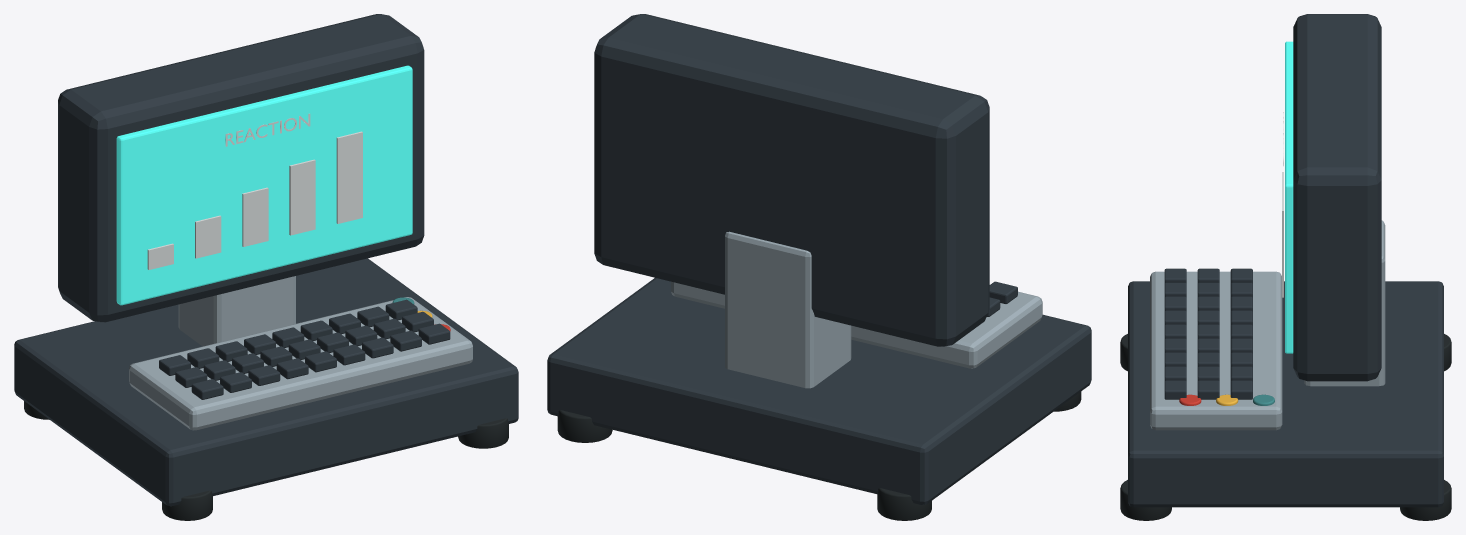
File: equation.glb
3 views of the same model, side by side, from view 1: azimuth 30°, elevation 25°; view 2: azimuth 150°, elevation 25°; view 3: azimuth 270°, elevation 25° (orthographic). The views are drawn at different scales.
Parts seen in each view (by area): view 1: Console base, Screen, Monitor bezel, Keyboard, Monitor stand, Display bar.004, Display bar.003, Display bar.002, Rubber foot, Rubber foot.002, Display bar.001, Display bar; view 2: Monitor bezel, Console base, Monitor stand, Keyboard, Rubber foot.001, Rubber foot.003; view 3: Console base, Monitor bezel, Keyboard, Screen, Monitor stand, Rubber foot.002, Rubber foot.003, Key.017, Key.008, Key.026.
Part boxes in pixels (<box>): Console base: <box>14,258,518,506</box>; Screen: <box>116,65,412,305</box>; Monitor bezel: <box>58,14,424,322</box>; Keyboard: <box>129,297,472,430</box>; Monitor stand: <box>178,276,295,346</box>; Display bar.004: <box>336,131,362,223</box>; Display bar.003: <box>289,159,315,235</box>; Display bar.002: <box>242,187,268,246</box>; Rubber foot: <box>162,490,212,520</box>; Rubber foot.002: <box>458,418,508,448</box>; Display bar.001: <box>195,215,221,258</box>; Display bar: <box>147,243,173,269</box>; Monitor bezel: <box>594,14,989,346</box>; Console base: <box>547,278,1091,504</box>; Monitor stand: <box>725,231,851,388</box>; Keyboard: <box>671,281,1042,368</box>; Rubber foot.001: <box>877,488,931,520</box>; Rubber foot.003: <box>557,410,612,442</box>; Console base: <box>1128,281,1443,507</box>; Monitor bezel: <box>1293,14,1381,381</box>; Keyboard: <box>1150,271,1282,430</box>; Screen: <box>1285,41,1293,353</box>; Monitor stand: <box>1304,220,1385,386</box>; Rubber foot.002: <box>1120,480,1171,520</box>; Rubber foot.003: <box>1400,480,1451,520</box>; Key.017: <box>1197,380,1219,399</box>; Key.008: <box>1164,380,1186,399</box>; Key.026: <box>1230,380,1252,399</box>.
Size of the model in its own units: 0.56 by 0.52 by 0.45.
